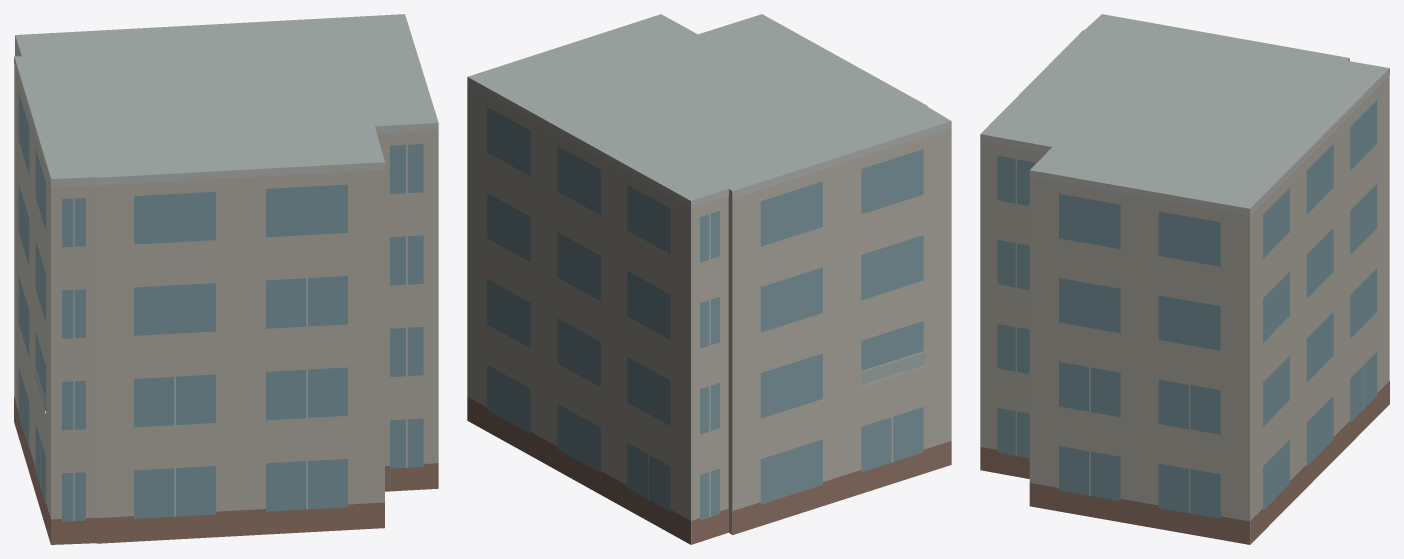
The model's file is survey-upis-32672093.glb.
3 views of the same model, side by side, from view 1: azimuth 30°, elevation 25°; view 2: azimuth 150°, elevation 25°; view 3: azimuth 270°, elevation 25° (orthographic). The views are drawn at different scales.
Visible parts, largest first — view 1: survey-upis-32672093.tmp; view 2: survey-upis-32672093.tmp; view 3: survey-upis-32672093.tmp.
Part boxes in pixels (<box>): survey-upis-32672093.tmp: <box>14,14,438,544</box>; survey-upis-32672093.tmp: <box>467,14,951,544</box>; survey-upis-32672093.tmp: <box>980,14,1389,544</box>.
Size of the model in its own units: 14.49 by 11.65 by 12.87.
